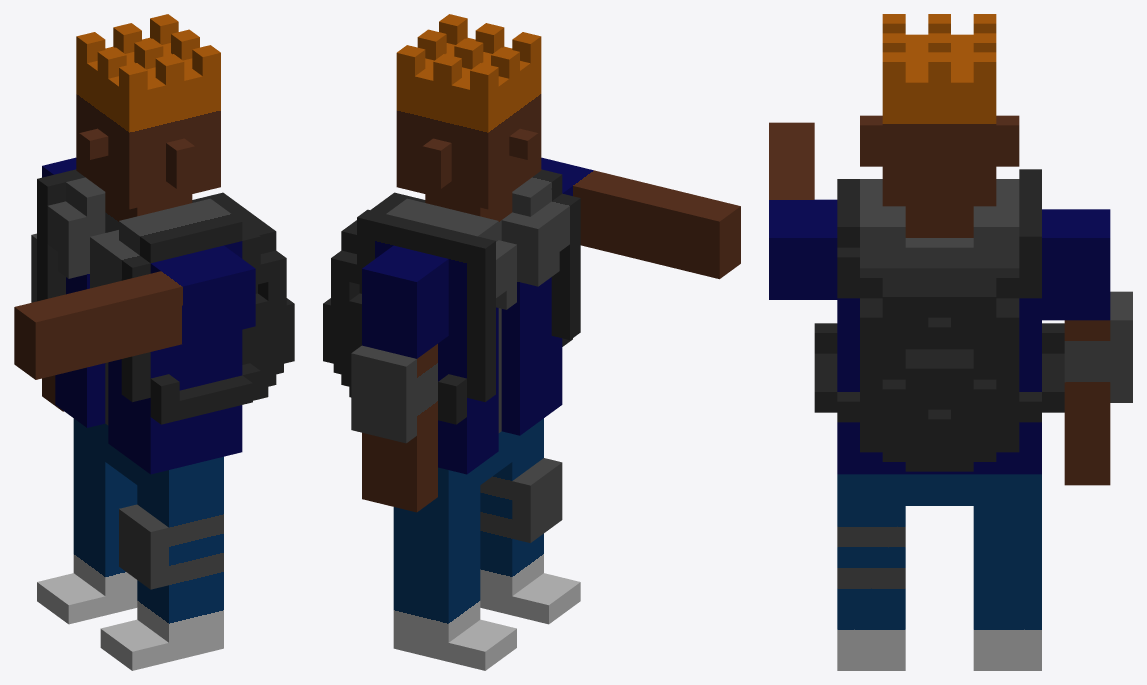
Rendered from man_02_handgun.fbx.
3 renders of one model, left to right at view 1: azimuth 30°, elevation 25°; view 2: azimuth 150°, elevation 25°; view 3: azimuth 270°, elevation 25°, orthographic. The views are drawn at different scales.
Visible parts, largest first — view 1: man_02_handgun.man_handgun; view 2: man_02_handgun.man_handgun; view 3: man_02_handgun.man_handgun.
Boxes of the visible parts, x1=… form: man_02_handgun.man_handgun: x1=14, y1=14, x2=294, y2=670; man_02_handgun.man_handgun: x1=323, y1=14, x2=740, y2=670; man_02_handgun.man_handgun: x1=769, y1=14, x2=1132, y2=670.
Bounding box in the file's own units: 1.8 × 3 × 1.6.
1 material, 1 textured.
